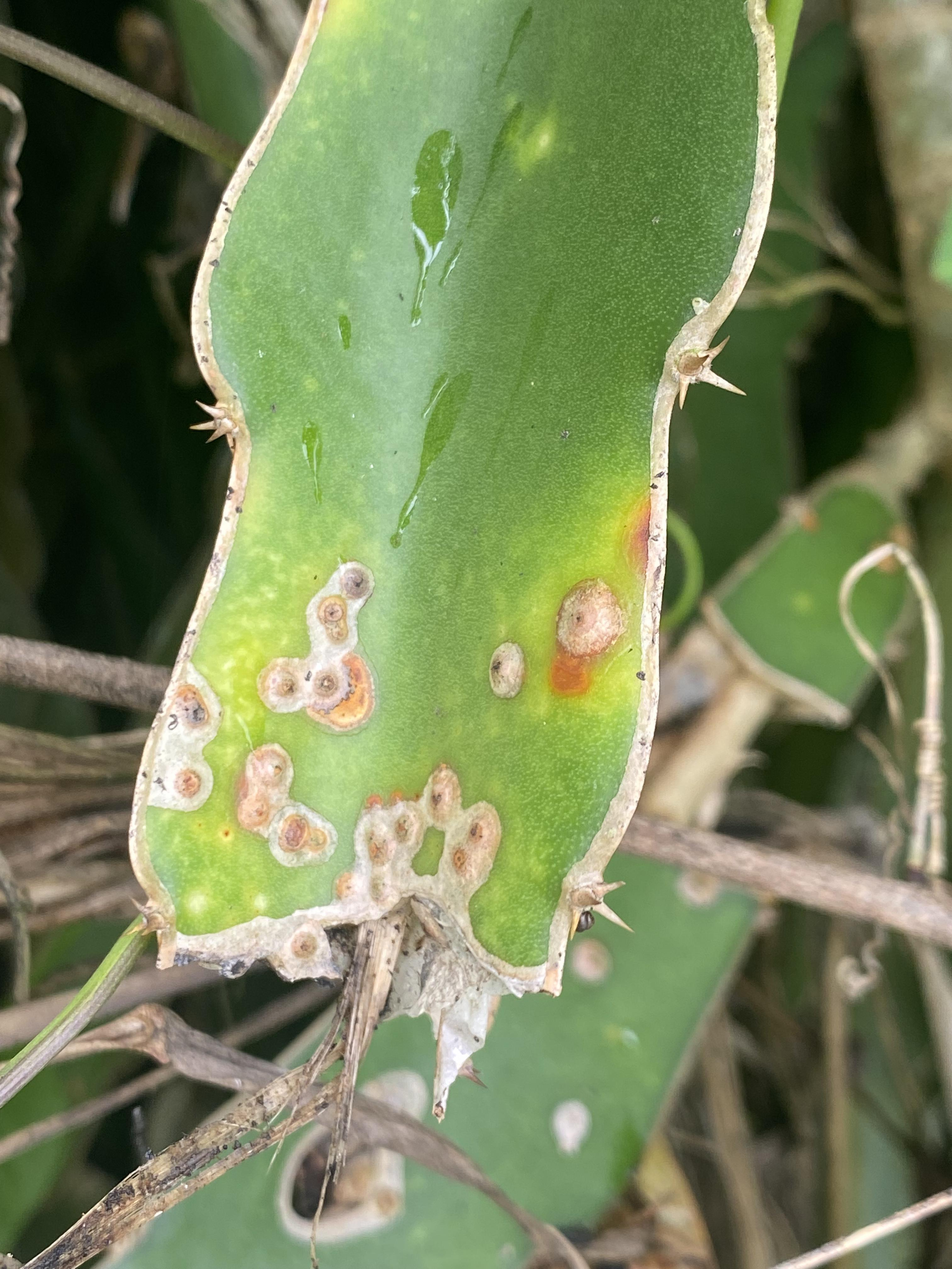stemcanker: (129, 458, 663, 998)
